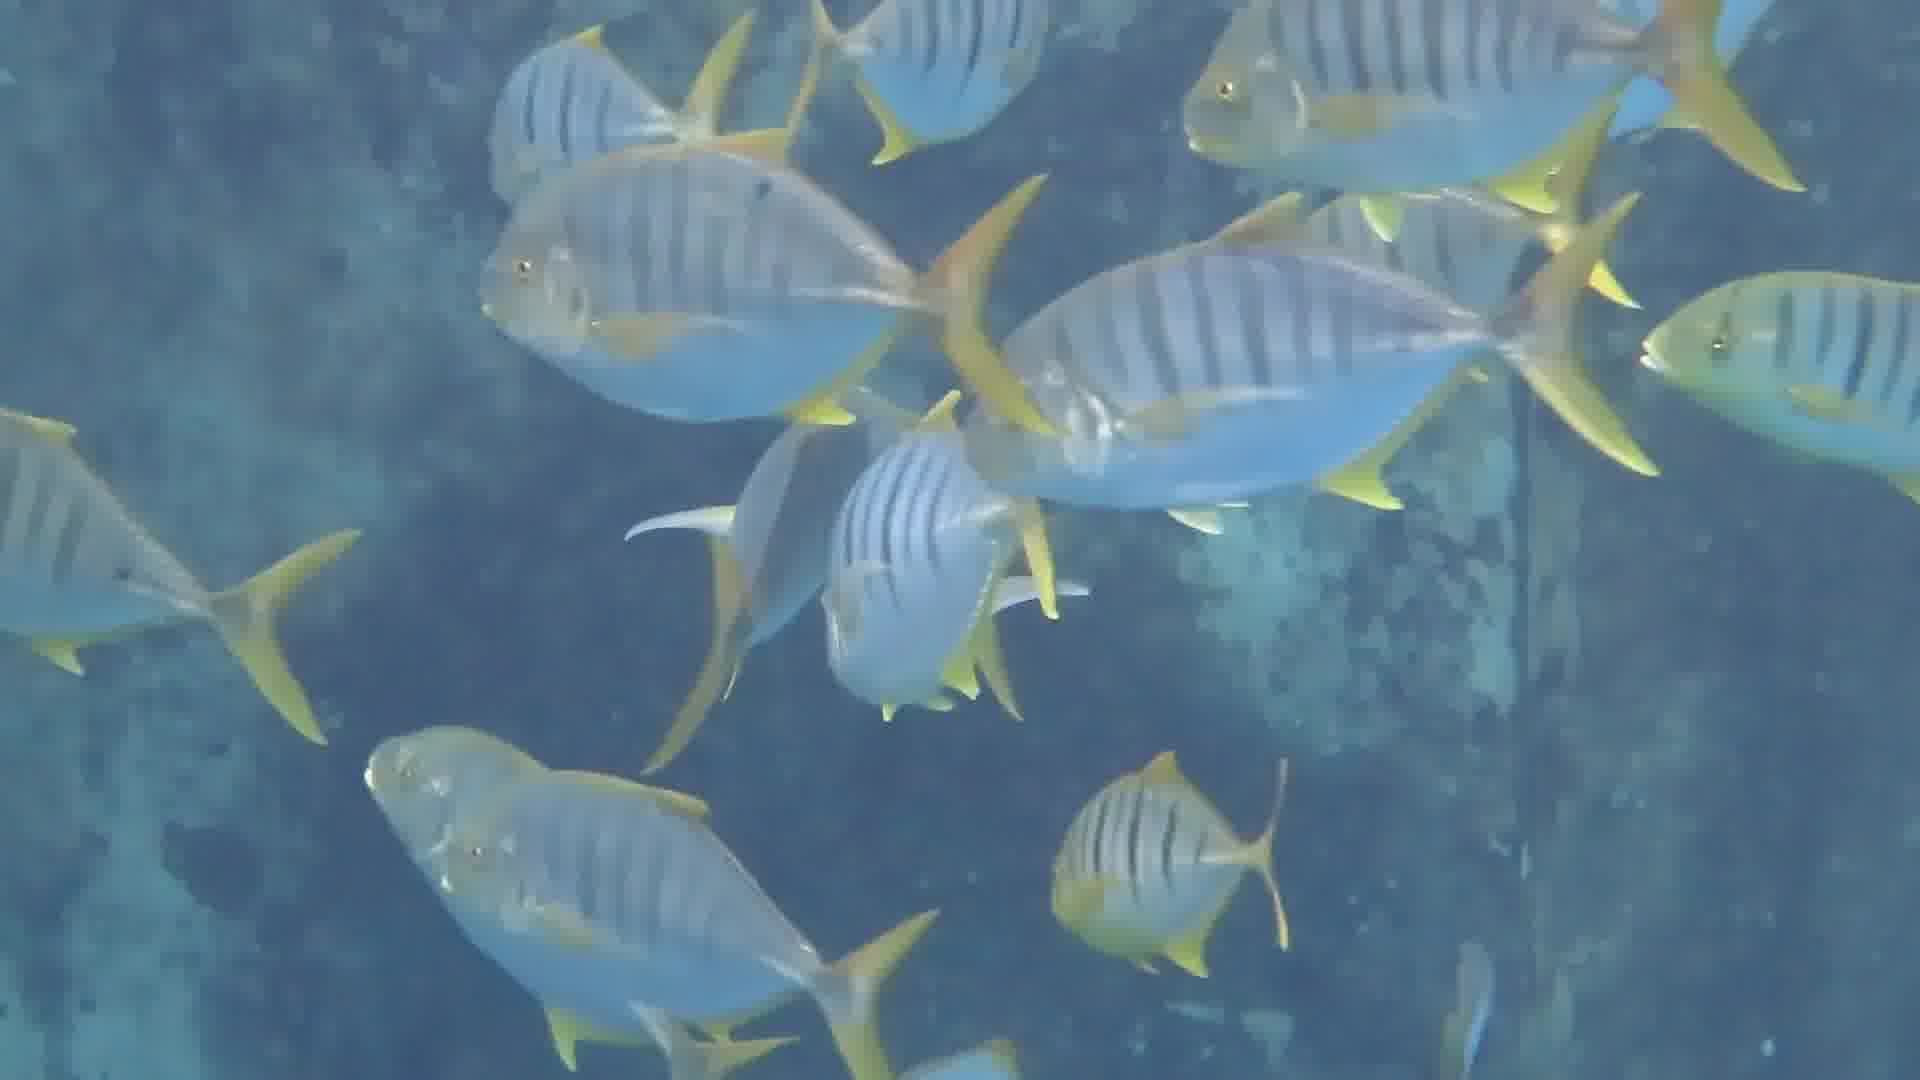Gnathanodon speciosus: (953, 224, 1646, 495), (502, 167, 1006, 421), (1184, 3, 1745, 198), (454, 785, 926, 1015), (1614, 229, 1920, 472)
